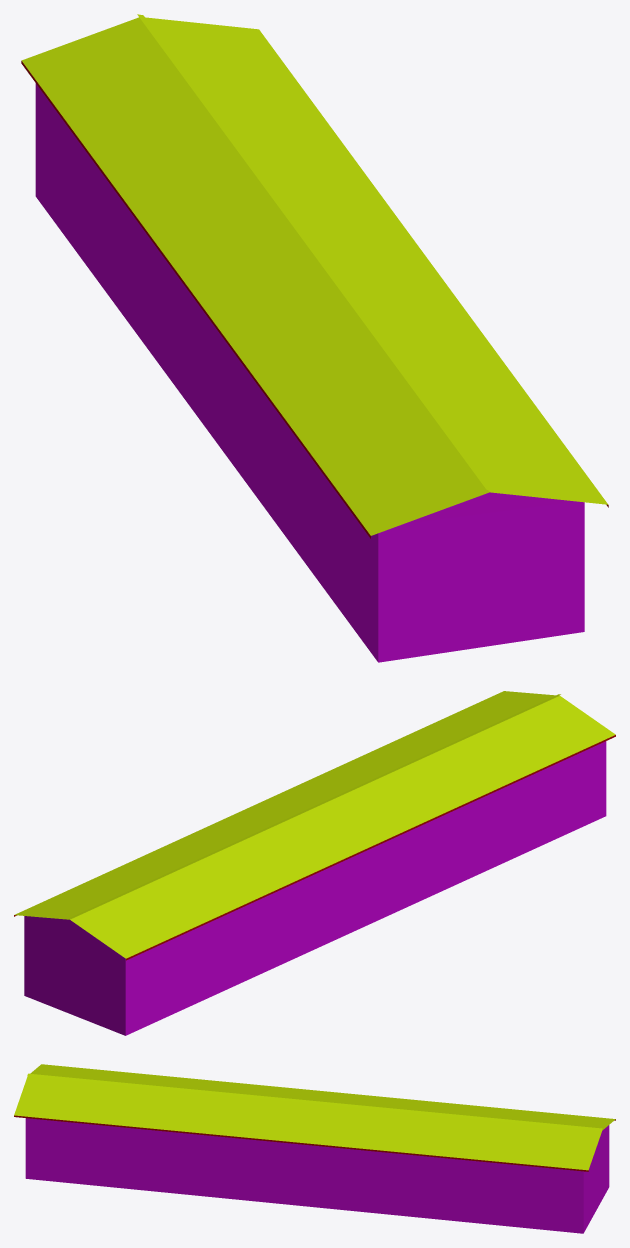
Rendered from suc_16.glb.
The picture shows the model from 3 angles, top to bottom: view 1: azimuth 30°, elevation 25°; view 2: azimuth 150°, elevation 25°; view 3: azimuth 270°, elevation 25°; orthographic projection. The views are drawn at different scales.
Visible parts, largest first — view 1: suc_16; view 2: suc_16; view 3: suc_16.
Boxes of the visible parts, left/top/right/bottom form: suc_16: left=21, top=14, right=608, bottom=662; suc_16: left=14, top=691, right=615, bottom=1035; suc_16: left=14, top=1064, right=615, bottom=1233.
Size of the model in its own units: 17.87 by 6.42 by 42.81.
